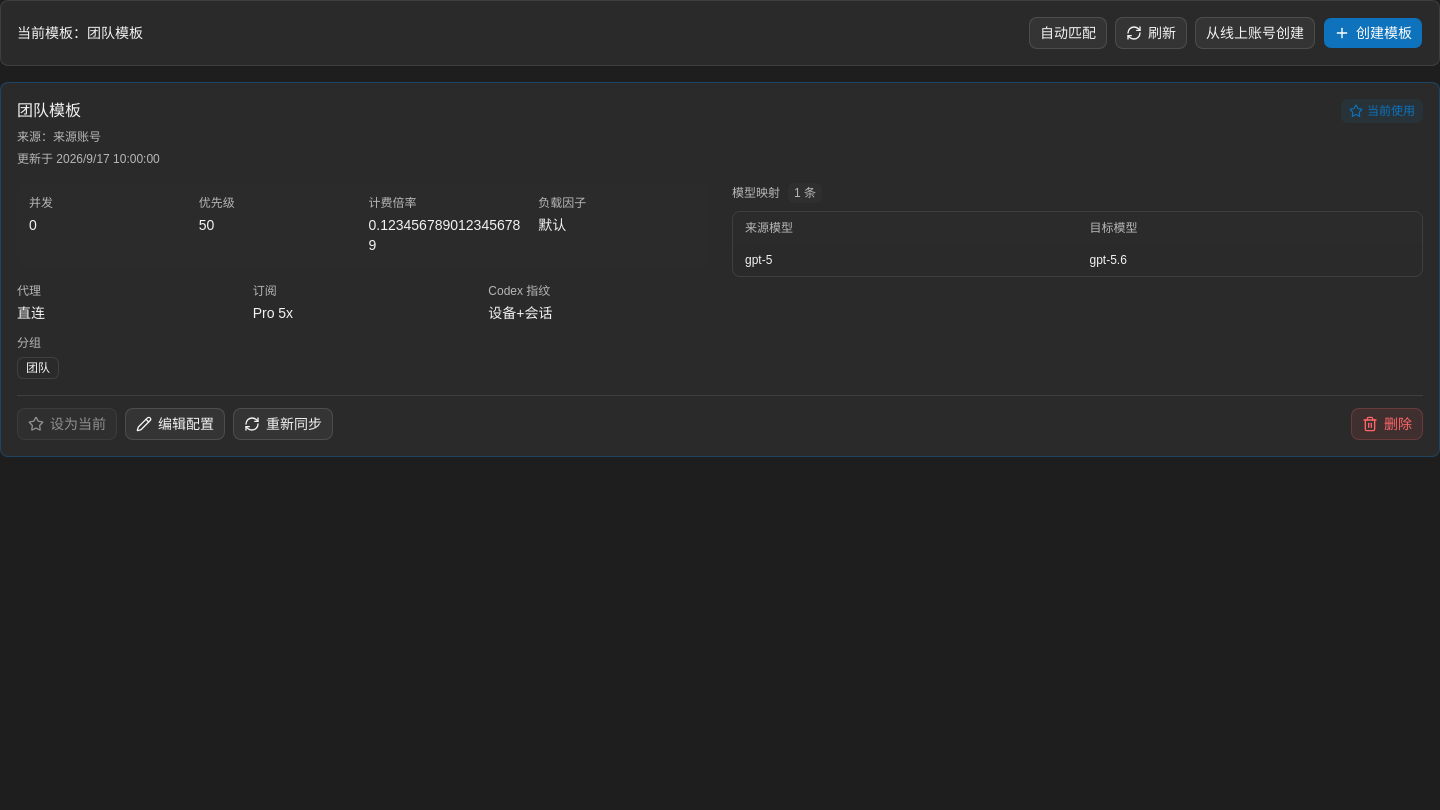
Scenario: 关闭模板同步弹窗取消来源读取，迟到配置不留在缓存且不保存模板
Click the button "重新同步" at (283, 424), box [233,408,333,440]
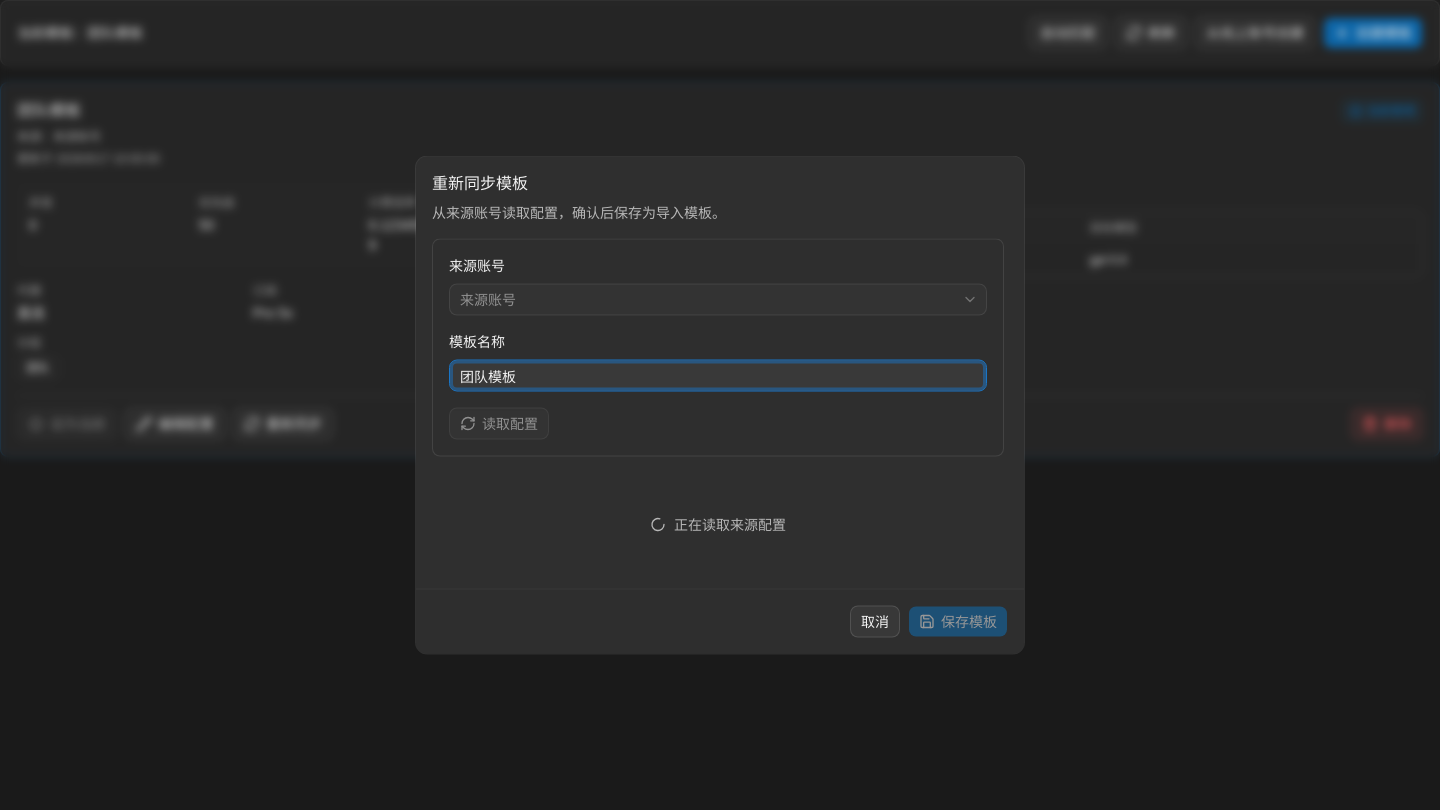
Click the button "取消" at (875, 622), box [850,606,900,638]
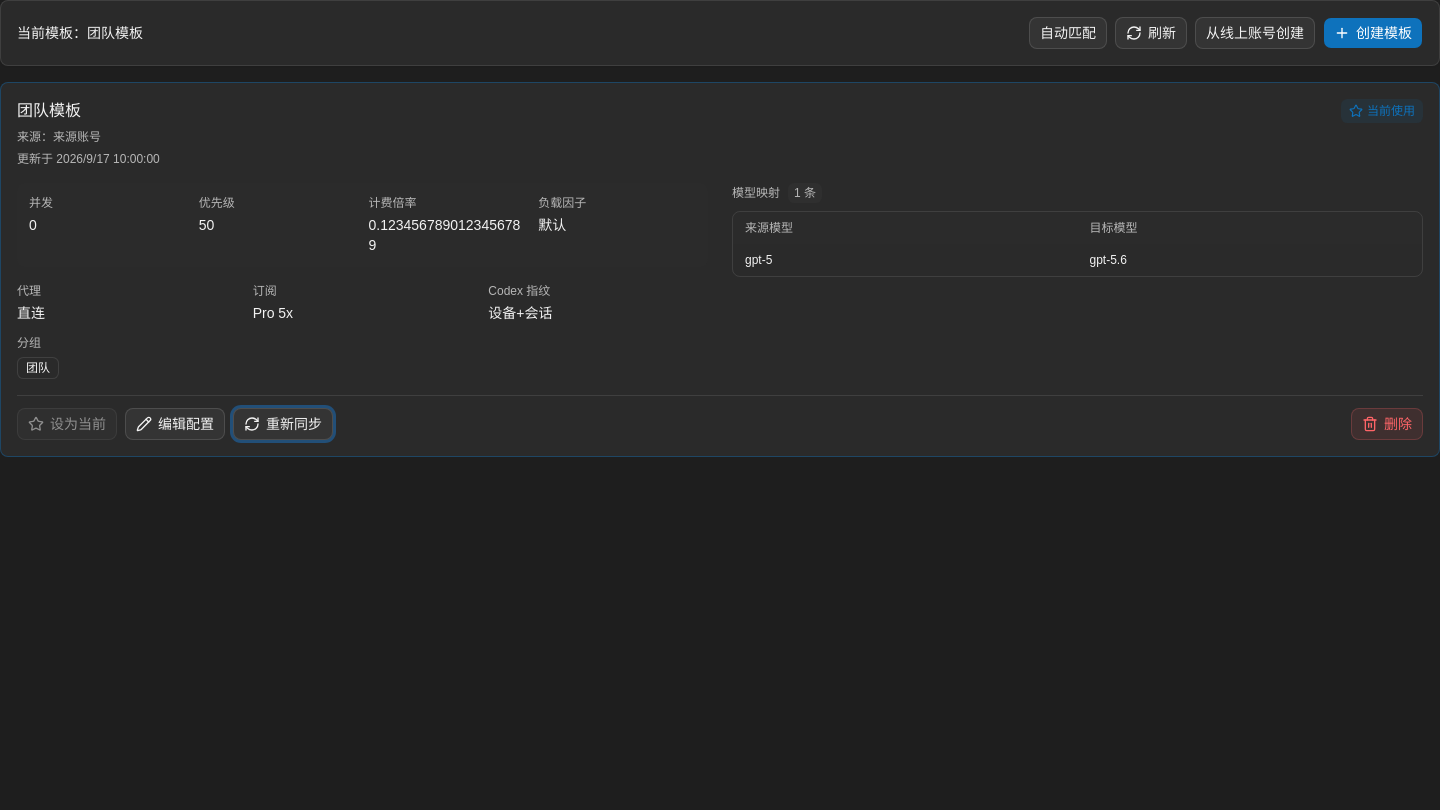
Result: the dialog is gone
